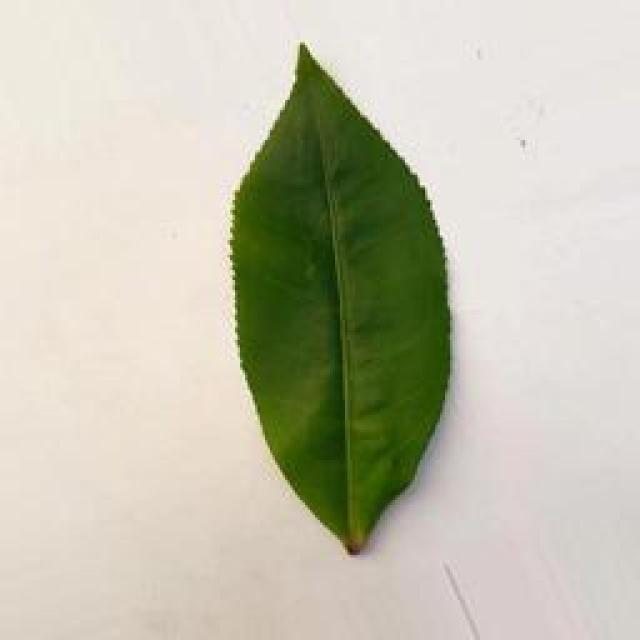Healthy: (207, 23, 476, 586)
